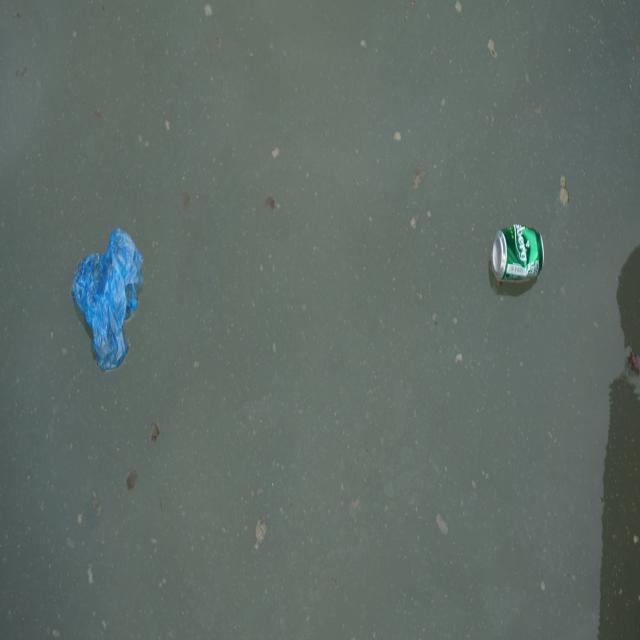Kantong Plastik: (69, 221, 146, 375)
